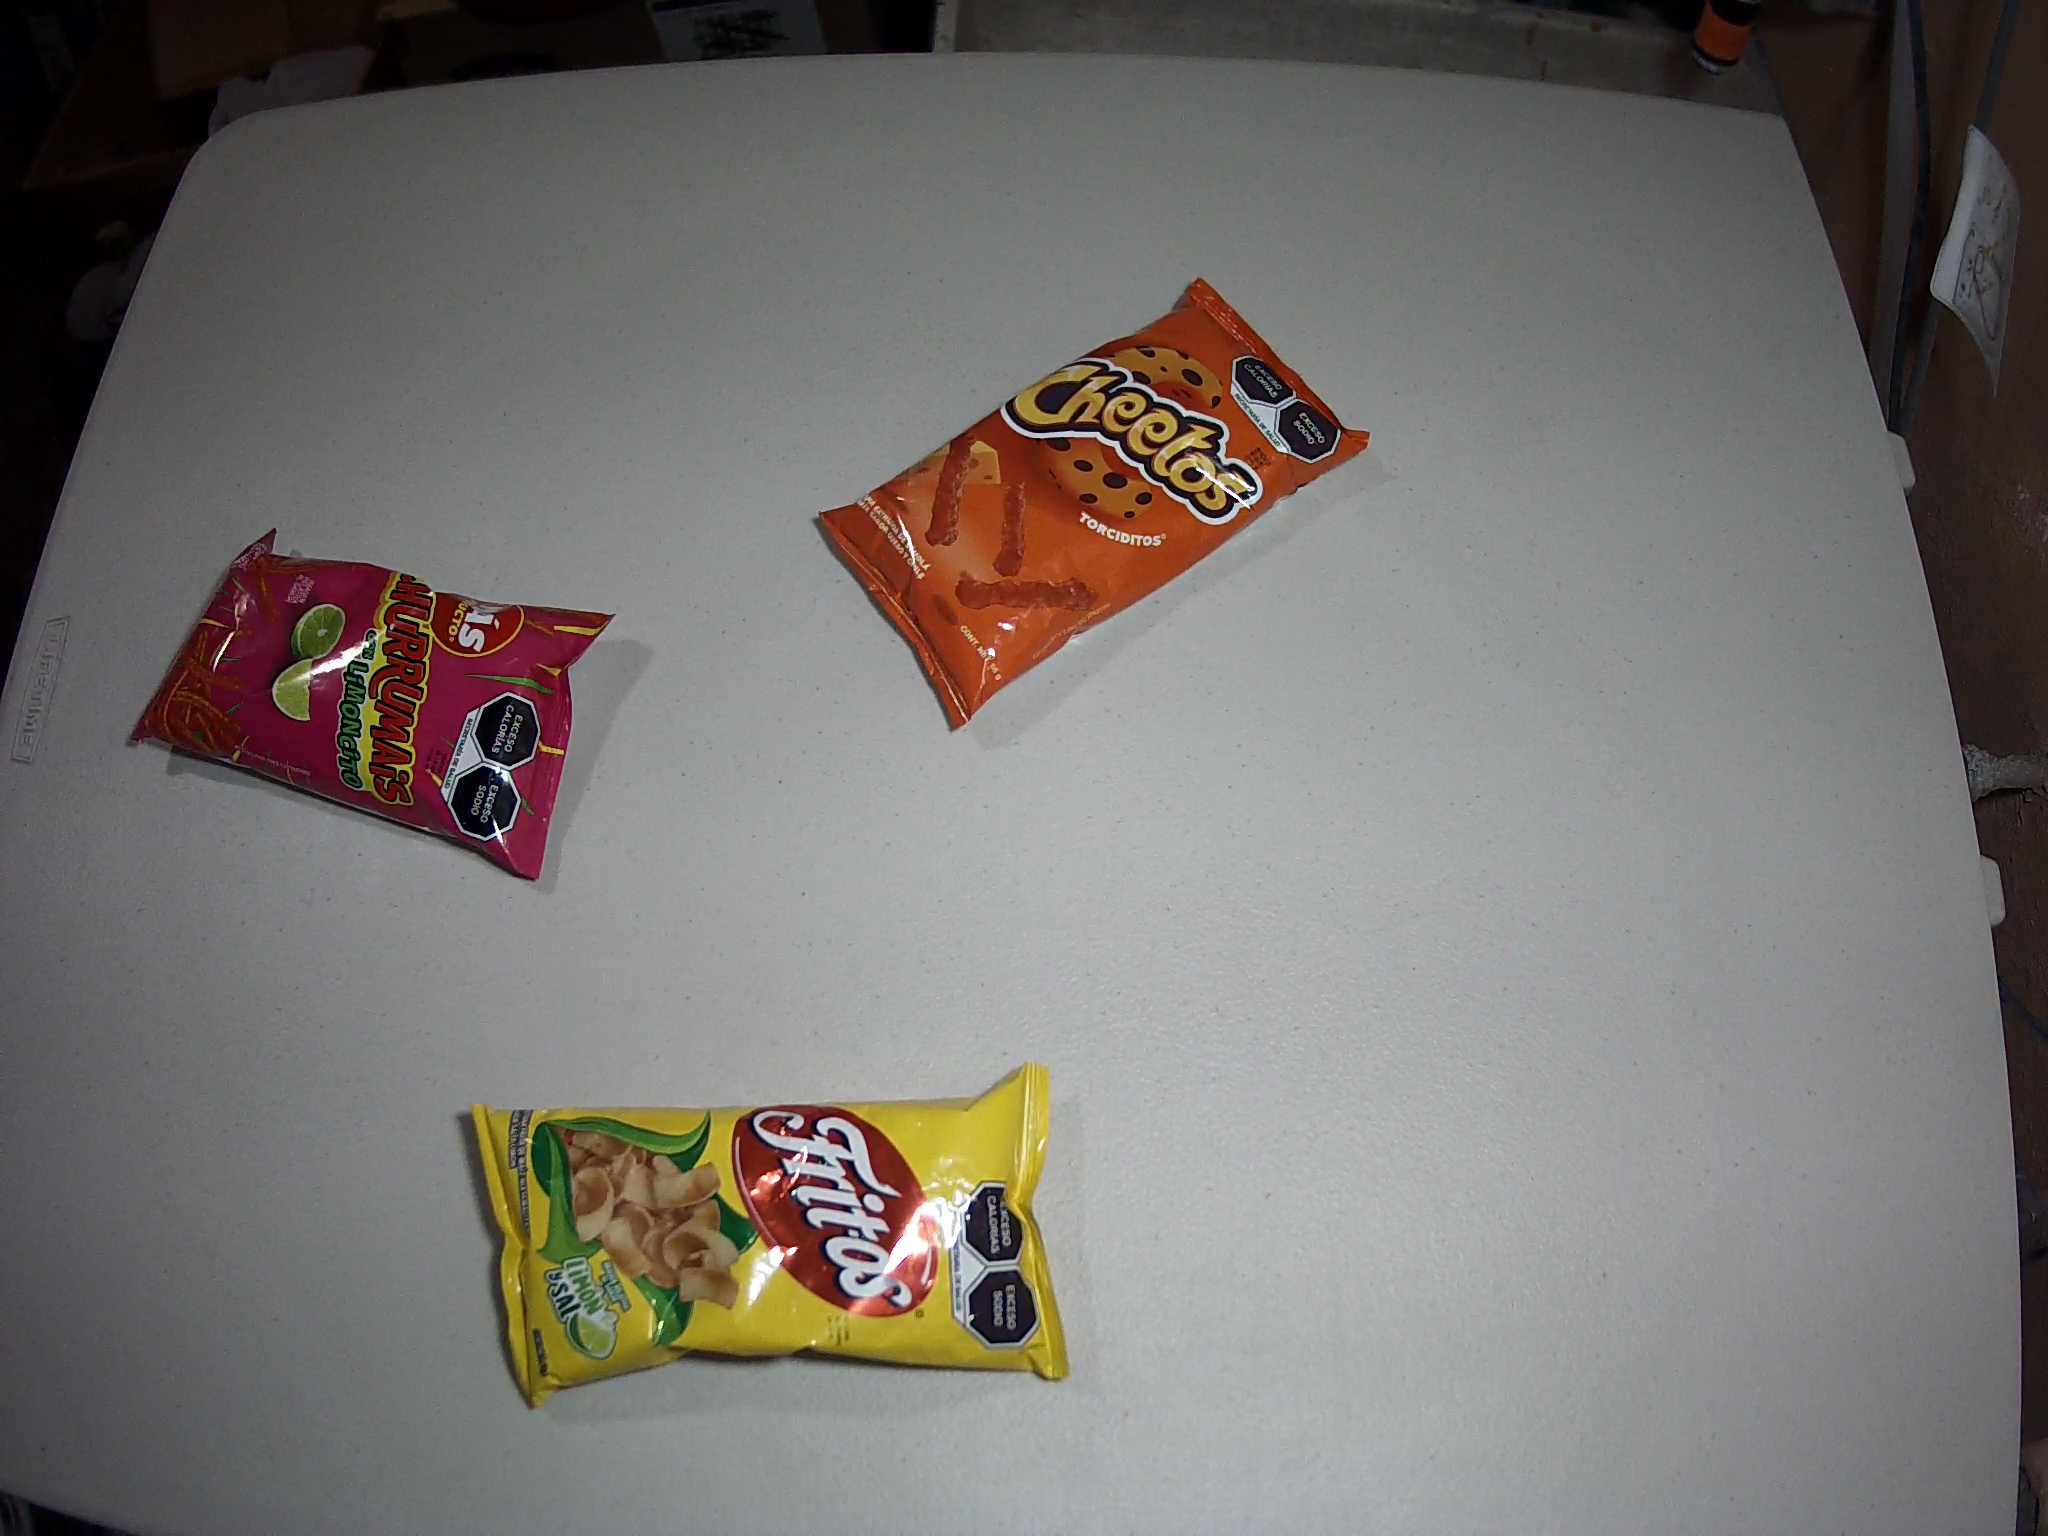CheetosTorciditos_55_F: (816, 276, 1376, 729)
Churrumais_70_F: (124, 528, 619, 883)
FritosSalLimon_65_F: (469, 1063, 1072, 1409)
